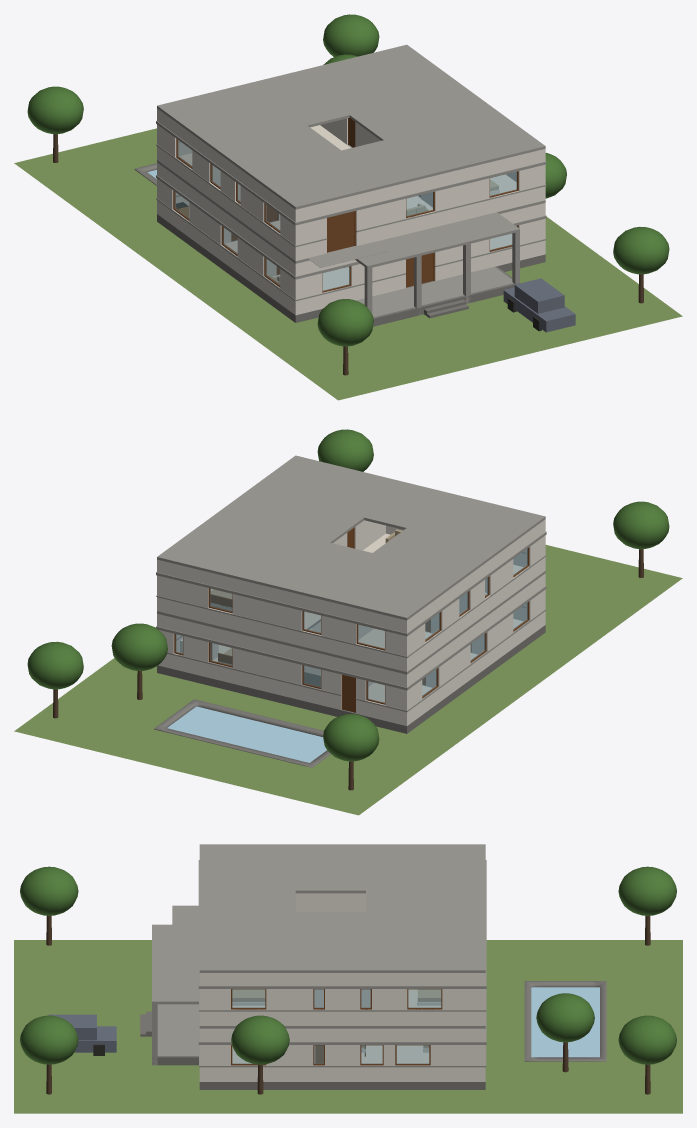
File: courtyard-house.glb
The picture shows the model from 3 angles, top to bottom: view 1: azimuth 30°, elevation 25°; view 2: azimuth 150°, elevation 25°; view 3: azimuth 270°, elevation 25°; orthographic projection. The views are drawn at different scales.
Visible parts, largest first — view 1: Site, Roof slab, South wall (×8), Tree (×5), West wall (×9), First floor slab, Plinth, Thinnai, Car (×2), Balcony, Lintel band; view 2: Site (×2), Roof slab, North wall (×9), Tree (×5), West wall (×9), Swimming Pool, Plinth, Lintel band (×2), First floor slab, Partition 10; view 3: Site (×2), Roof slab, East wall (×16), Tree (×6), First floor slab, Plinth, Swimming Pool, Thinnai, Lintel band (×2), Car (×2), Partition 9, Sill band (×2) (+6 smaller).
Boxes of the visible parts, x1,y1,x2,y2 form: Site: (14,128,682,400); Roof slab: (157,44,545,209); South wall (×8): (295,149,545,315); Tree (×5): (27,14,669,346); West wall (×9): (157,108,295,314); First floor slab: (157,145,545,268); Plinth: (157,214,545,326); Thinnai: (356,266,513,317); Car (×2): (503,278,575,332); Balcony: (307,241,388,267); Lintel band: (295,161,546,225); Site (×2): (14,545,682,815); Roof slab: (157,455,545,620); North wall (×9): (157,559,406,725); Tree (×5): (27,429,669,761); West wall (×9): (407,519,545,725); Swimming Pool: (167,706,326,762); Plinth: (157,625,545,733); Lintel band (×2): (156,572,407,690); First floor slab: (157,571,545,674); Partition 10: (354,520,385,550); Site (×2): (14,940,682,1113); Roof slab: (199,844,485,972); East wall (×16): (199,973,485,1081); Tree (×6): (20,866,676,1064); First floor slab: (152,924,485,1028); Plinth: (152,1056,485,1089); Swimming Pool: (531,987,599,1057); Thinnai: (157,1004,198,1055); Lintel band (×2): (198,986,486,1044); Car (×2): (48,1014,116,1052); Partition 9: (295,893,365,912); Sill band (×2): (199,1009,486,1067).
Size of the model in its own units: 21 by 6.9 by 34.2.
